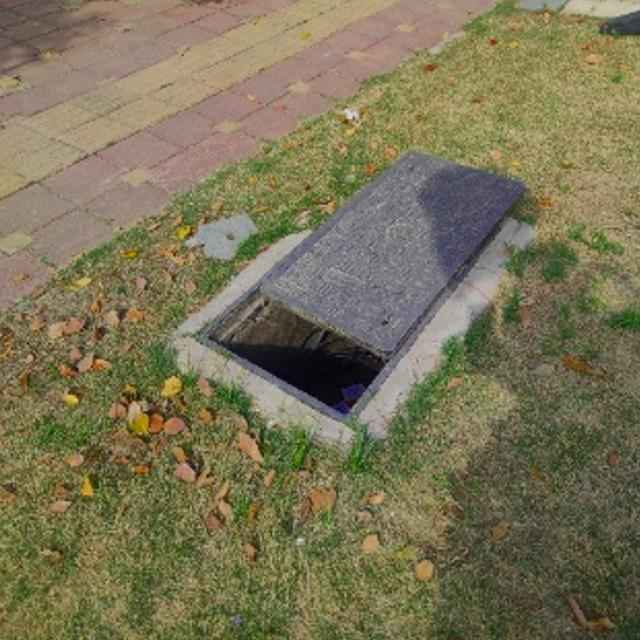uncovered: (177, 152, 538, 438)
